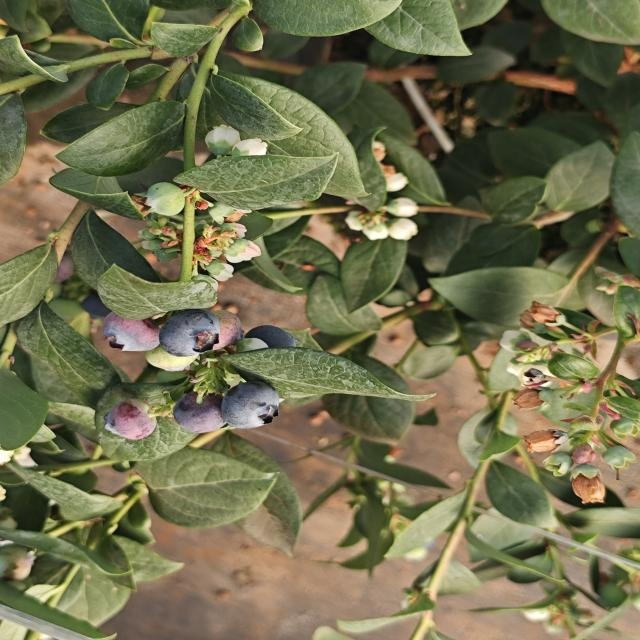ripe: (156, 308, 224, 360), (218, 379, 283, 432), (239, 317, 301, 362), (169, 389, 227, 436)
